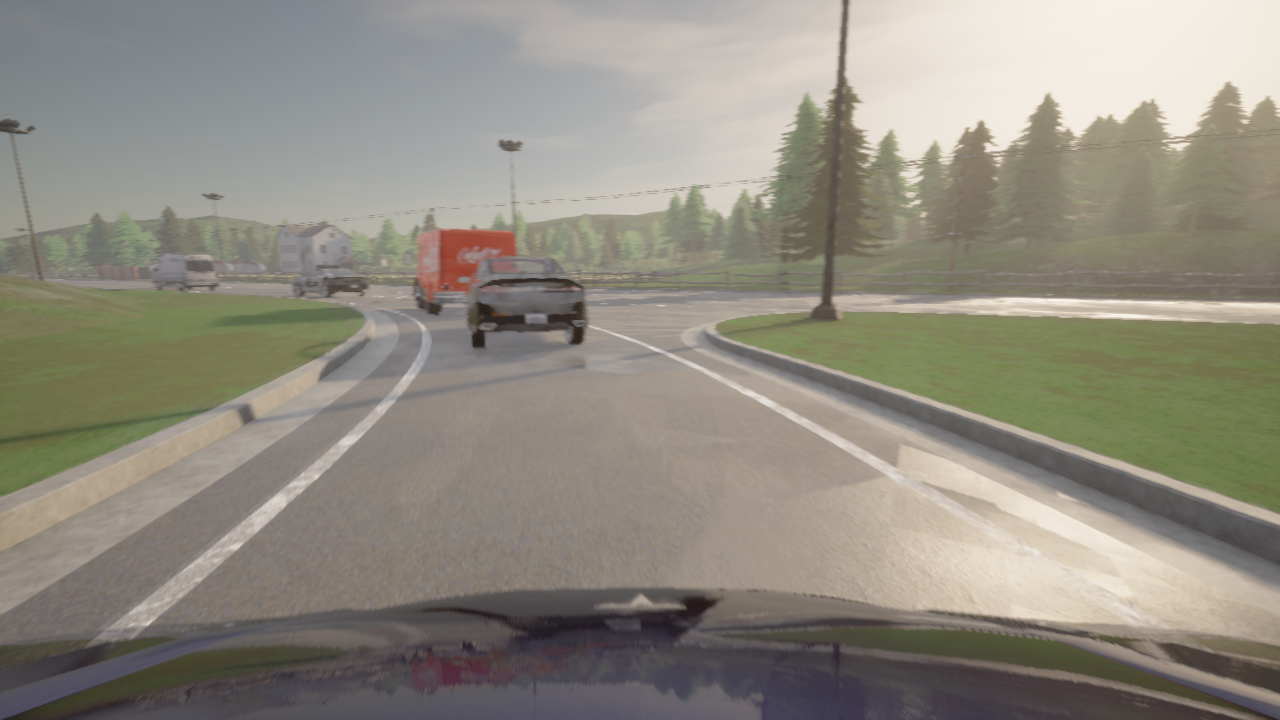cyclist: (0, 588, 1279, 719), (457, 256, 587, 349), (404, 229, 515, 314), (153, 254, 218, 291), (293, 265, 368, 297)
